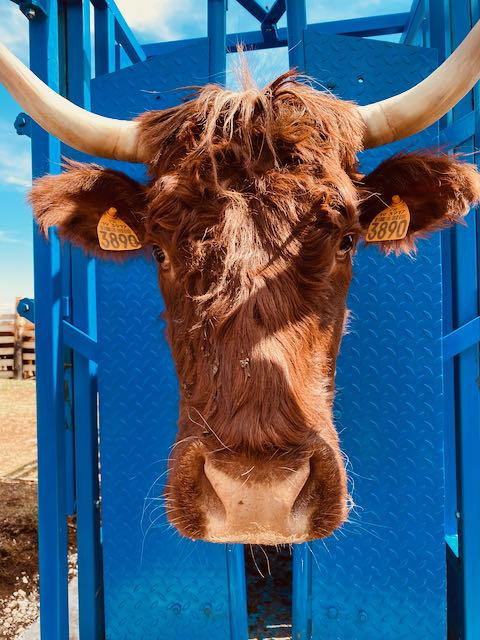muzzles: (157, 442, 360, 555)
